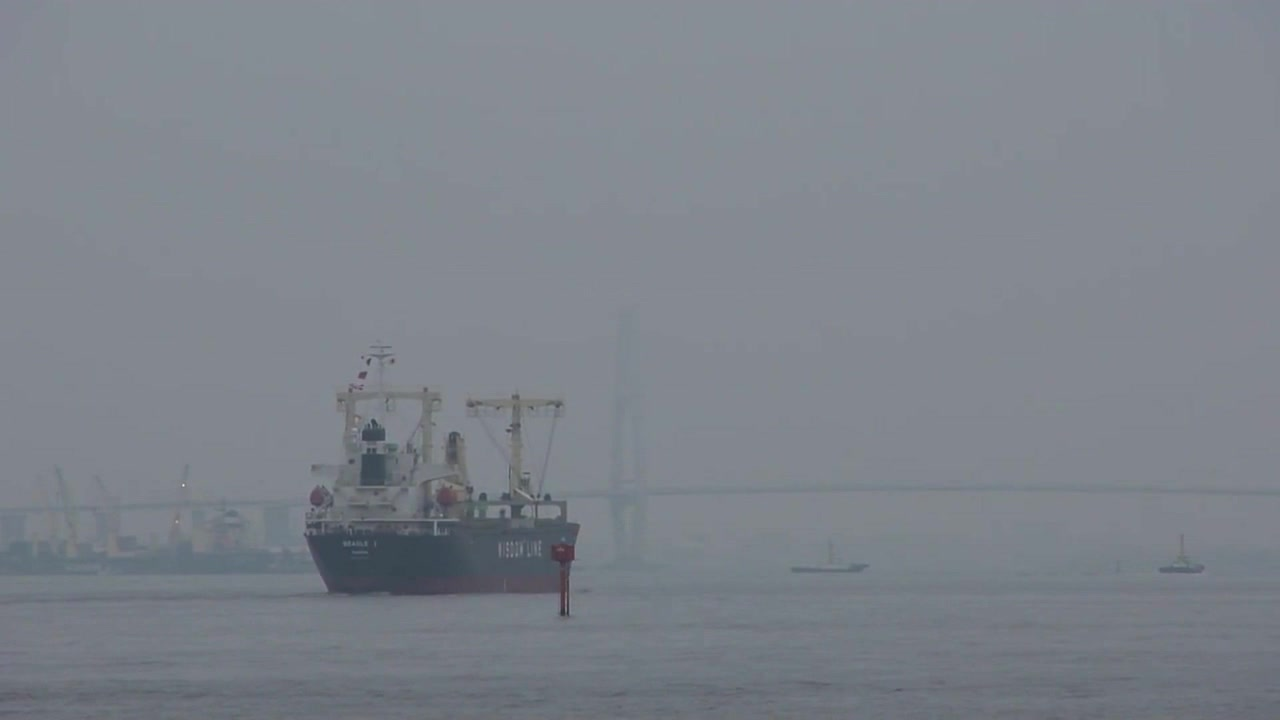boat: (311, 338, 583, 602)
